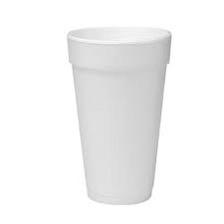paper_cup: (60, 21, 175, 208)
